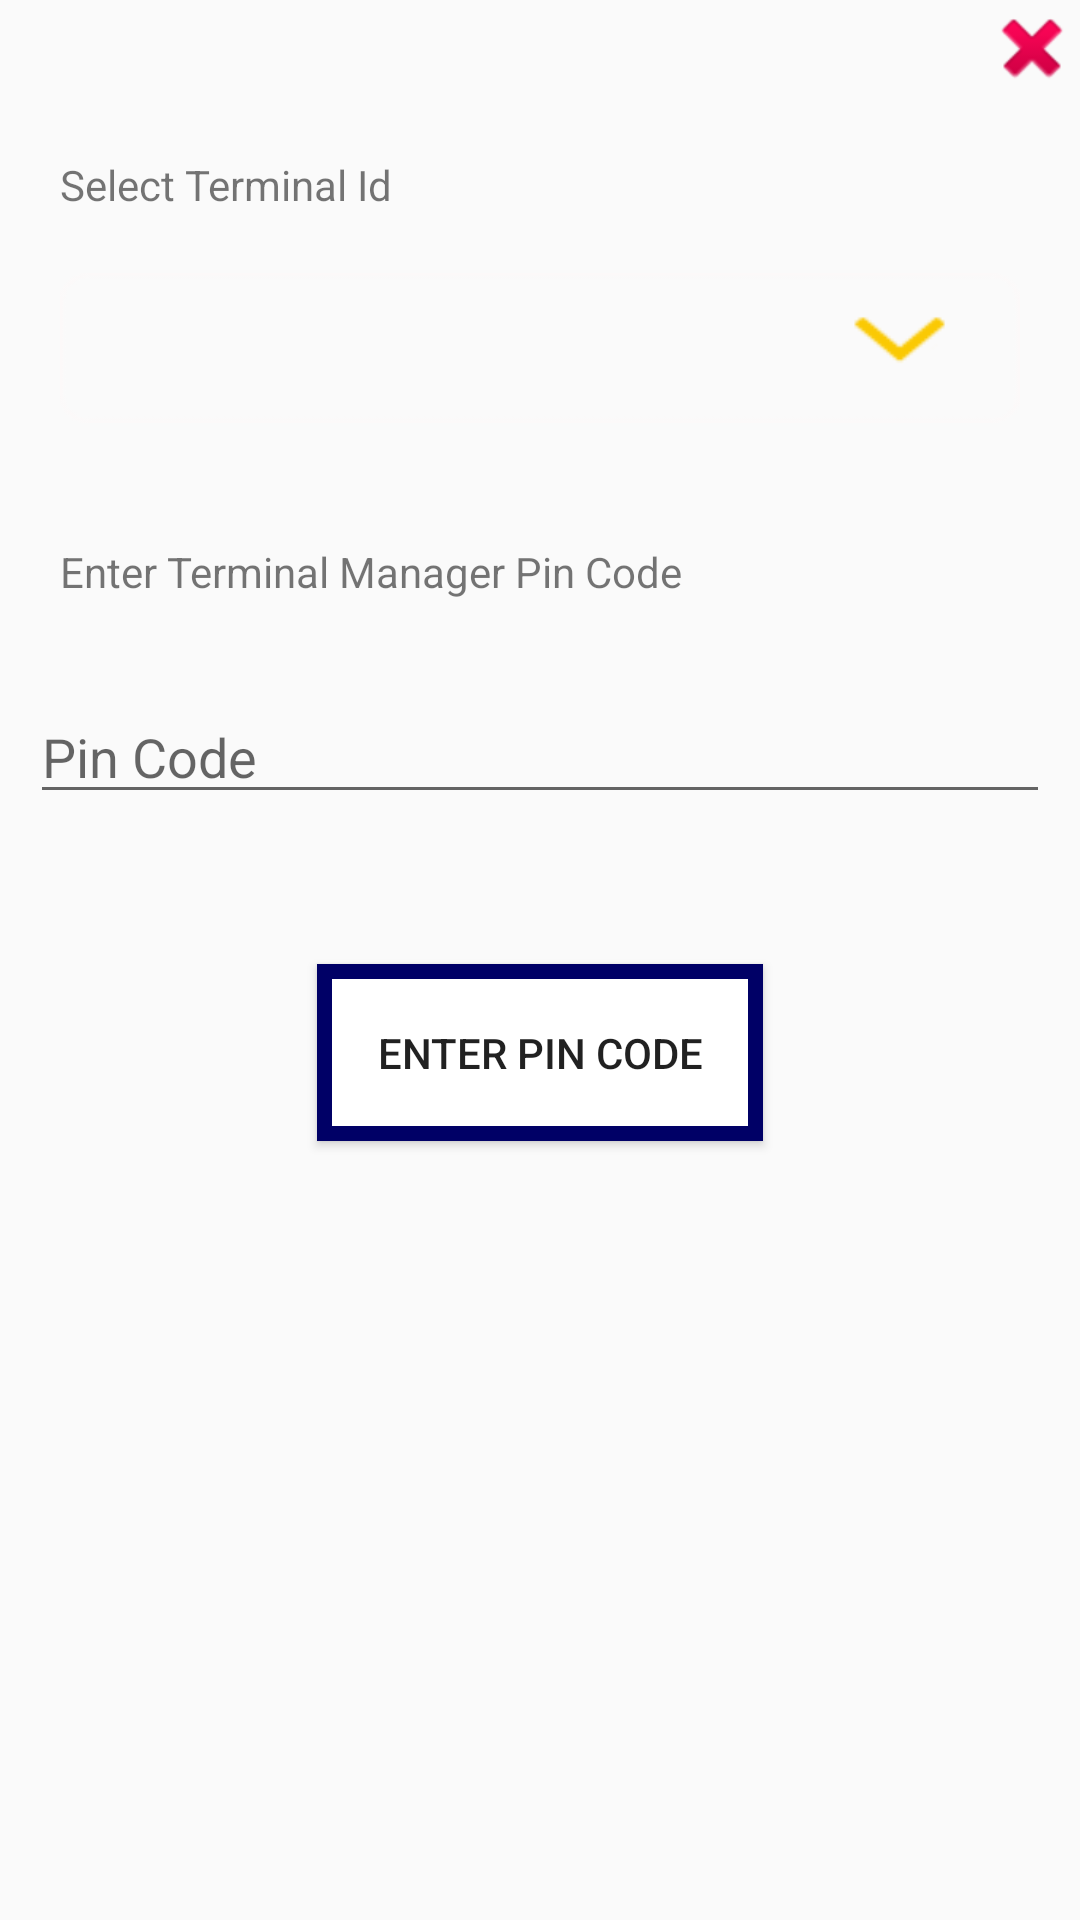

Point at icon controls on the screen. Image size 1080px x 1920px, points as [x,y].
delete: [1032,48]
